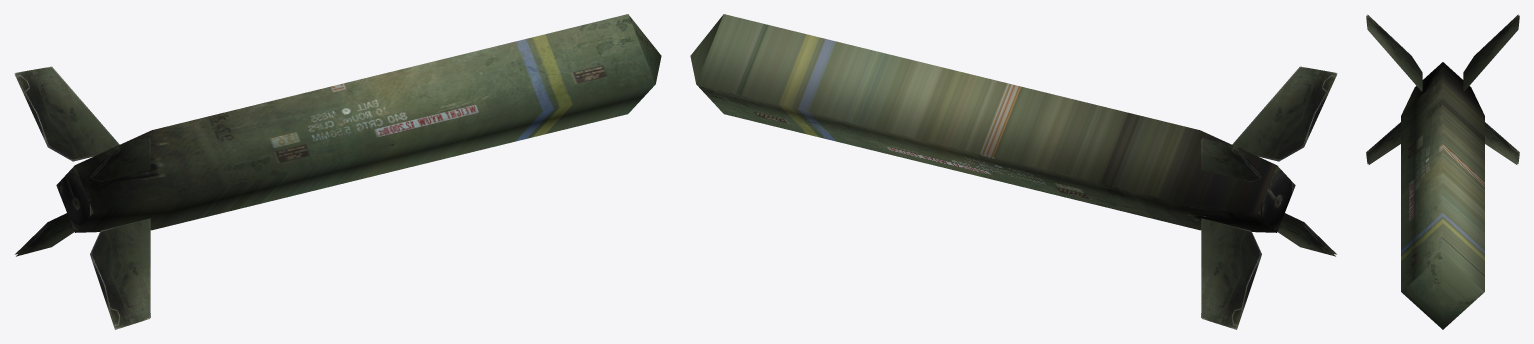
The model's file is projectile_cbu97_clusterbomb_LOD2.obj.
3 views of the same model, side by side, from view 1: azimuth 30°, elevation 25°; view 2: azimuth 150°, elevation 25°; view 3: azimuth 270°, elevation 25° (orthographic). The views are drawn at different scales.
Visible parts, largest first — view 1: mtl_cbu97_clusterbomb; view 2: mtl_cbu97_clusterbomb; view 3: mtl_cbu97_clusterbomb.
Boxes of the visible parts, bbox=[...] form: mtl_cbu97_clusterbomb: bbox=[14, 14, 661, 329]; mtl_cbu97_clusterbomb: bbox=[690, 14, 1337, 329]; mtl_cbu97_clusterbomb: bbox=[1366, 14, 1519, 329].
Bounding box in the file's own units: 239 × 70.34 × 70.34.
